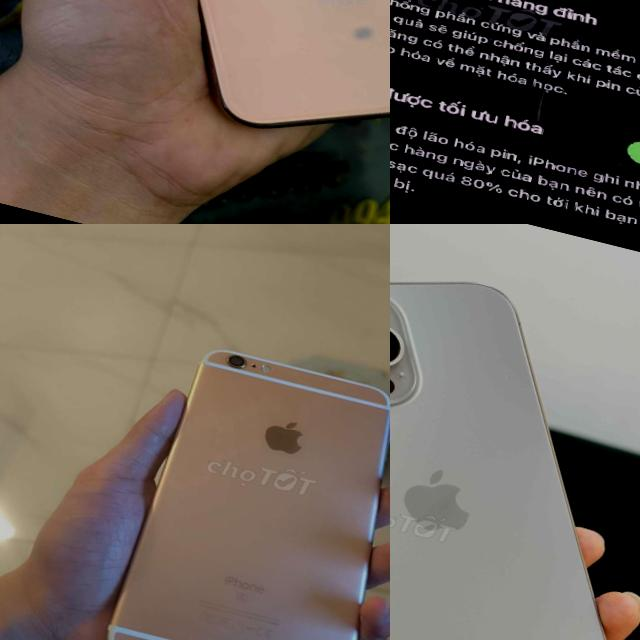gen_14: (390, 0, 640, 224)
gen_15: (390, 224, 640, 640)
gen_6: (86, 318, 390, 640)
gen_x_xs: (18, 0, 390, 198)
